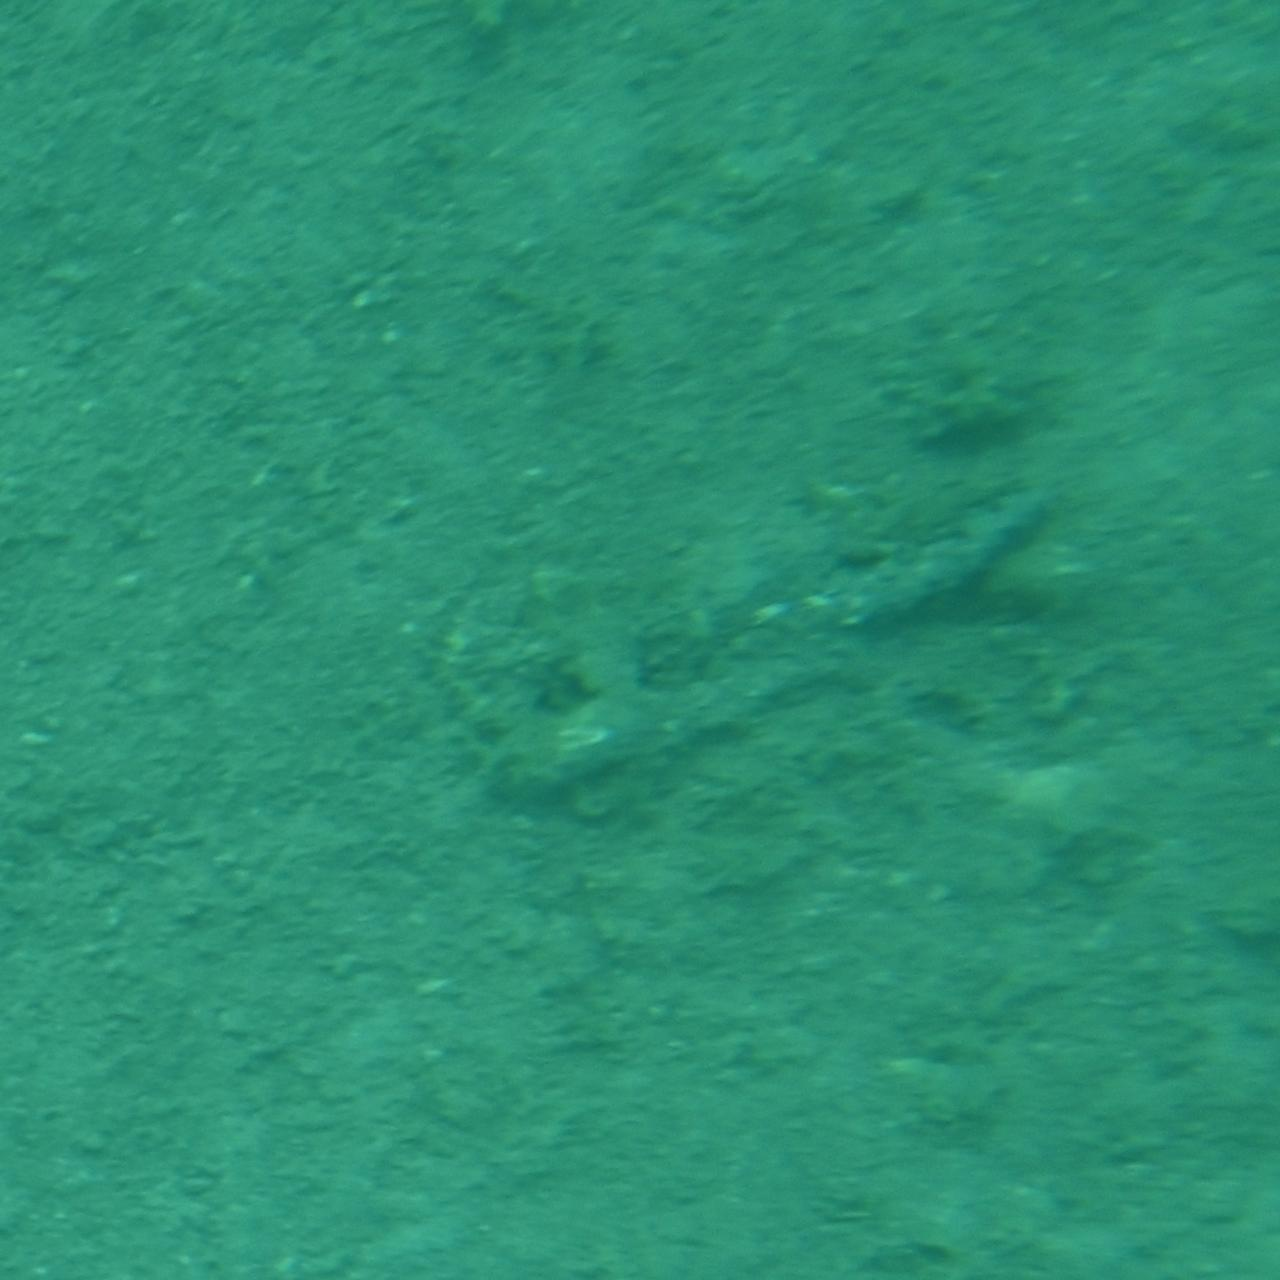Holothuria tubulosa: (478, 445, 1125, 835)
